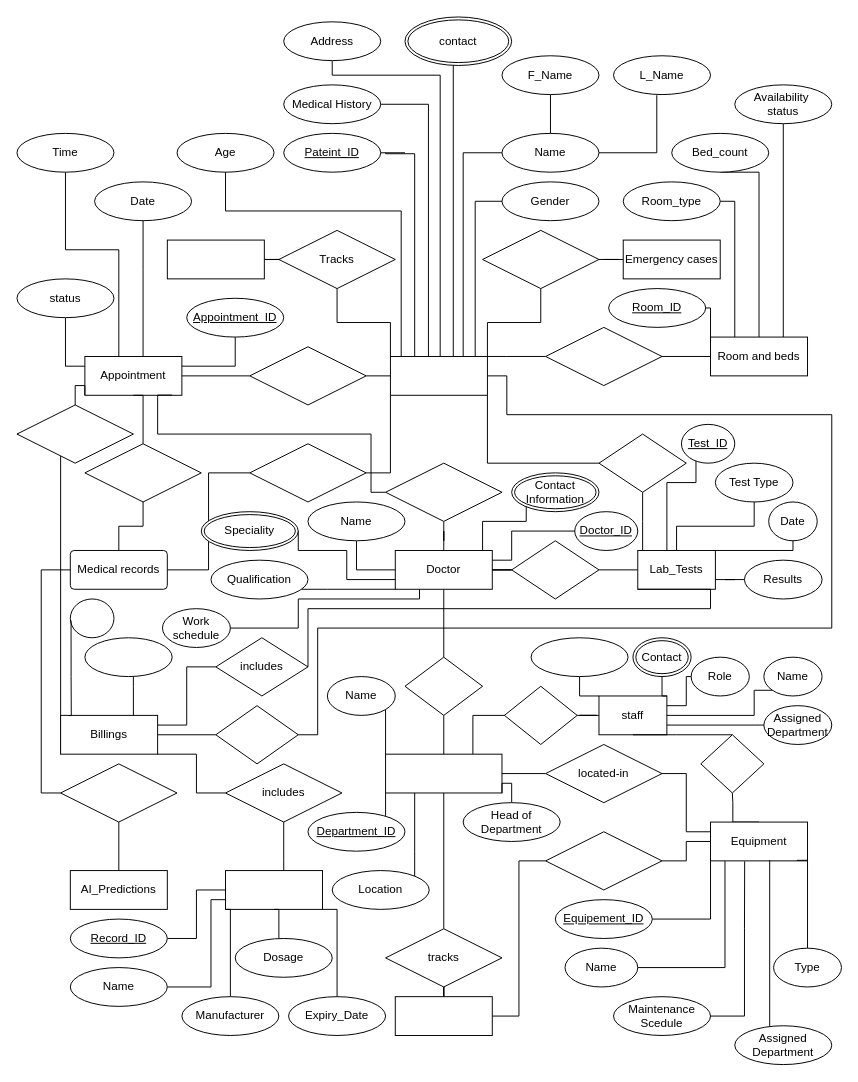
Some shapes in this 858 by 1082 pixel diagram are drawn without their labels. Each missing label, with the centre of its shape:
analyzes: pixel 118 792
assigned to: pixel 540 714
assigned_to: pixel 603 356
belongs to: pixel 443 685
Bill_ID: pixel 91 618
books: pixel 307 375
conducts: pixel 443 491
Energy Consumption: pixel 443 1015
generates: pixel 142 472
has: pixel 307 472
Hospital_Department: pixel 443 773
manages: pixel 732 763
Medications: pixel 274 889
monitors: pixel 603 860
orders: pixel 555 569
Patients: pixel 438 375
Prioritizes: pixel 540 259
recieves: pixel 256 734
related to: pixel 74 433
Staff_ID: pixel 579 657
Total_Amount: pixel 128 657
undergo: pixel 642 462
wearable health devices: pixel 215 259
